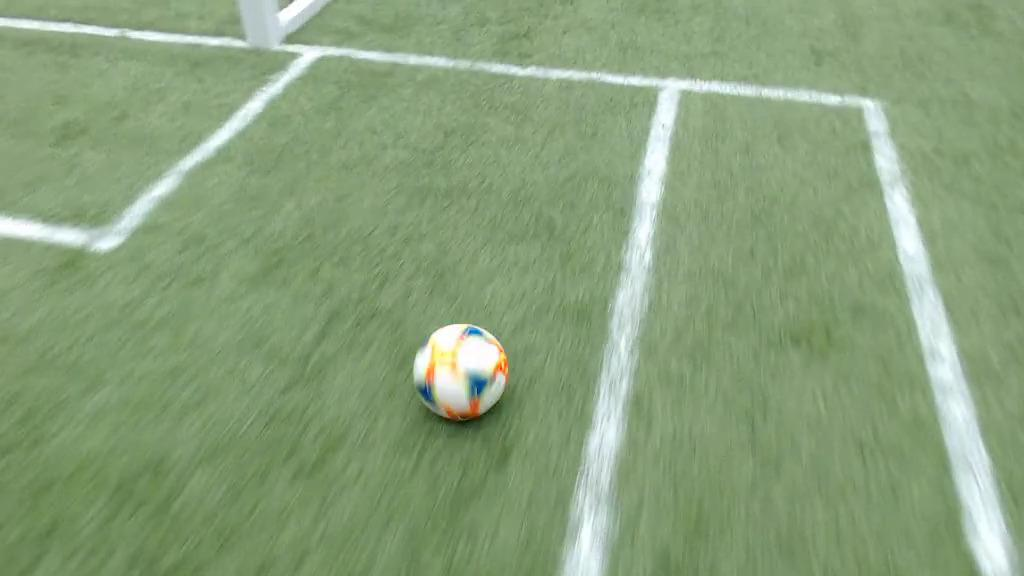ball: (414, 324, 508, 421)
